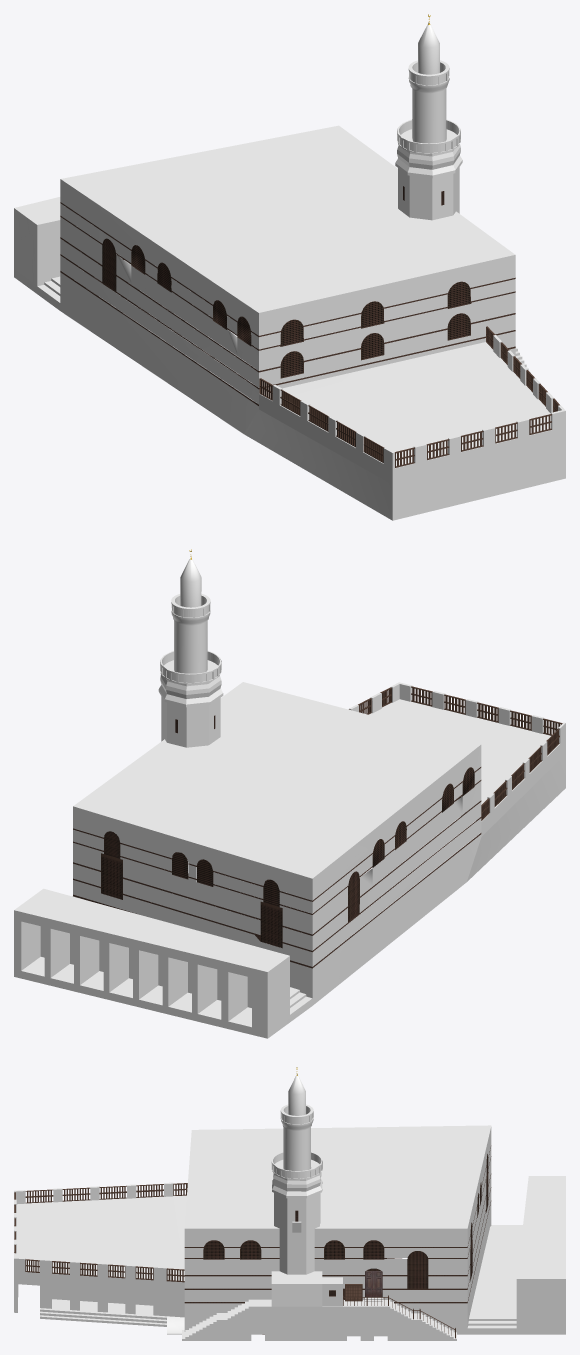
3 renders of one model, top to bottom at view 1: azimuth 30°, elevation 25°; view 2: azimuth 150°, elevation 25°; view 3: azimuth 270°, elevation 25°, orthographic. The views are drawn at different scales.
Visible parts, largest first — view 1: Line001_primitive4, Line001_primitive3, Line001_primitive0, Line001_primitive1; view 2: Line001_primitive4, Line001_primitive3, Line001_primitive1, Line001_primitive0; view 3: Line001_primitive4, Line001_primitive3, Line001_primitive0, Line001_primitive1, Line001_primitive2.
Boxes of the visible parts, x1,y1,x2,y2 form: Line001_primitive4: (14,14,565,520); Line001_primitive3: (60,202,559,467); Line001_primitive0: (131,186,470,378); Line001_primitive1: (102,238,116,291); Line001_primitive4: (14,549,565,1038); Line001_primitive3: (73,686,562,968); Line001_primitive1: (101,831,359,948); Line001_primitive0: (172,715,474,906); Line001_primitive4: (14,1067,565,1340); Line001_primitive3: (14,1145,491,1338); Line001_primitive0: (203,1154,488,1296); Line001_primitive1: (407,1172,488,1289); Line001_primitive2: (365,1271,382,1296).
Bounding box in the file's own units: 22.53 × 24.86 × 47.67.
5 materials, 5 textured.
